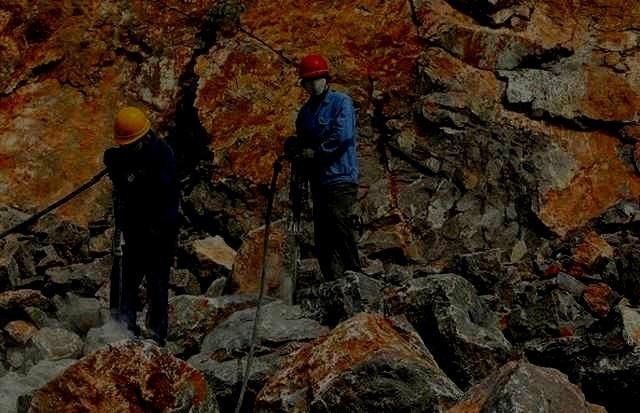helmet: (110, 106, 152, 153), (297, 53, 331, 97)
